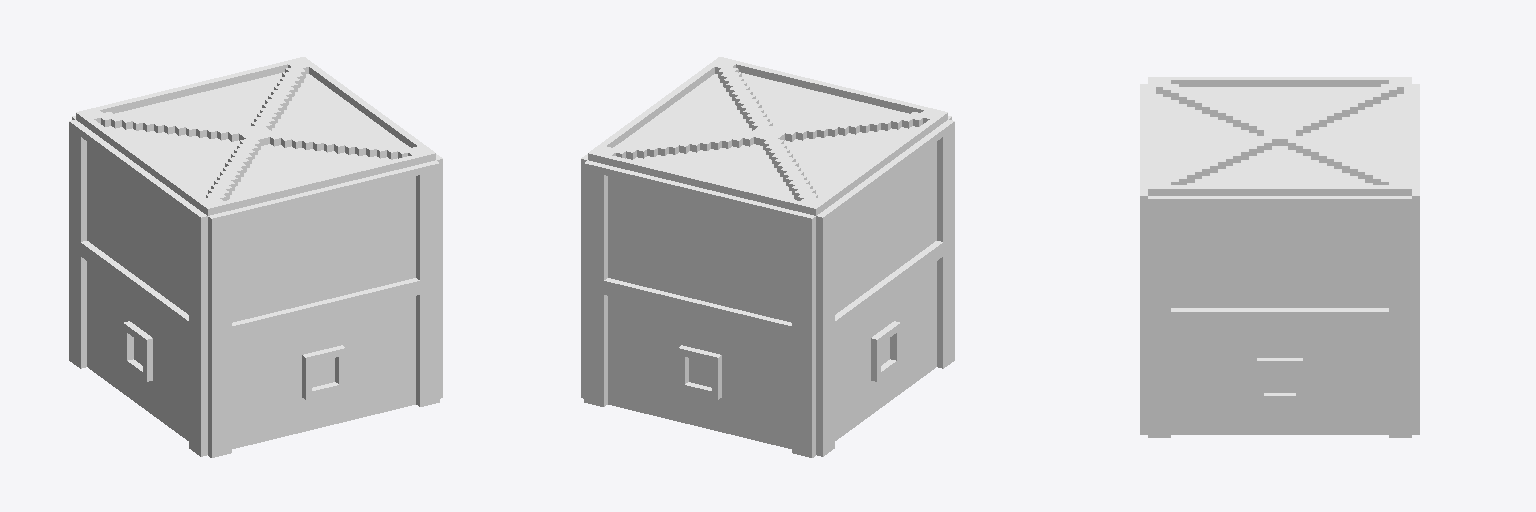
Rendered from CoffreCed-1-CuveEau.obj.
3 renders of one model, left to right at view 1: azimuth 30°, elevation 25°; view 2: azimuth 150°, elevation 25°; view 3: azimuth 270°, elevation 25°, orthographic.
Visible parts, largest first — view 1: CuveEau; view 2: CuveEau; view 3: CuveEau.
Part boxes in pixels (x1,y1,x2,y2): CuveEau: (69,57,442,457); CuveEau: (581,57,954,457); CuveEau: (1140,77,1419,437).
Bounding box in the file's own units: 3.6 × 3.5 × 3.6.